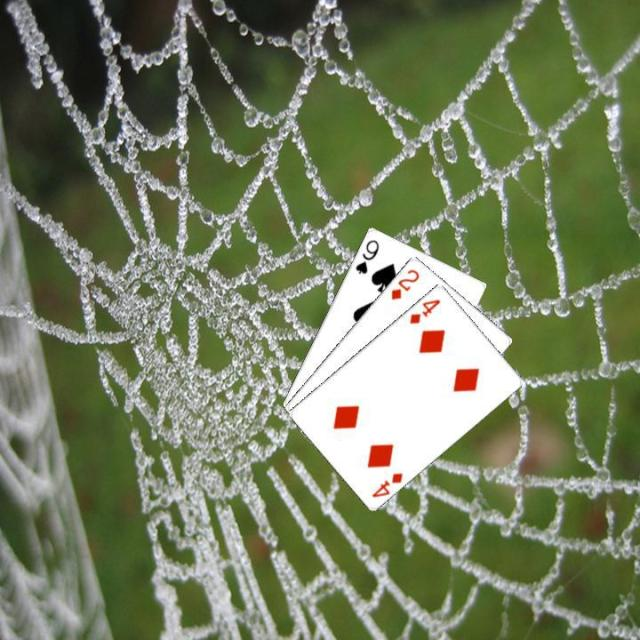2D: (387, 265, 421, 301)
4D: (405, 295, 443, 325), (368, 468, 404, 499)
9S: (351, 236, 381, 276)
